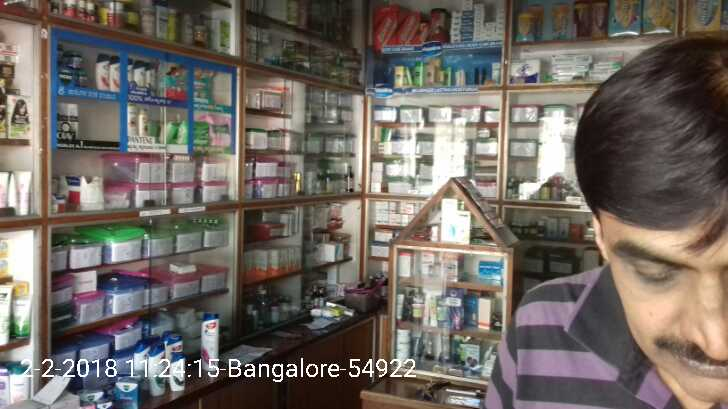beauty: (95, 58, 155, 97)
pharmacy: (162, 63, 217, 104), (202, 118, 235, 156), (67, 51, 88, 84)
